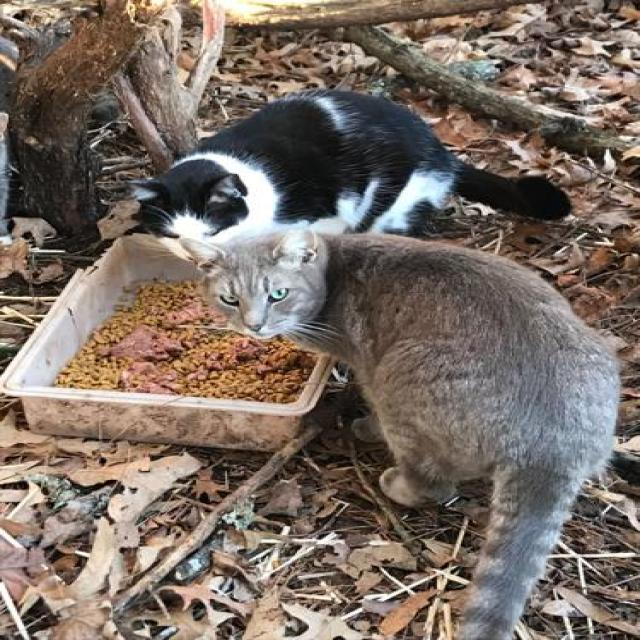cat: (184, 230, 620, 639), (132, 90, 572, 242)
